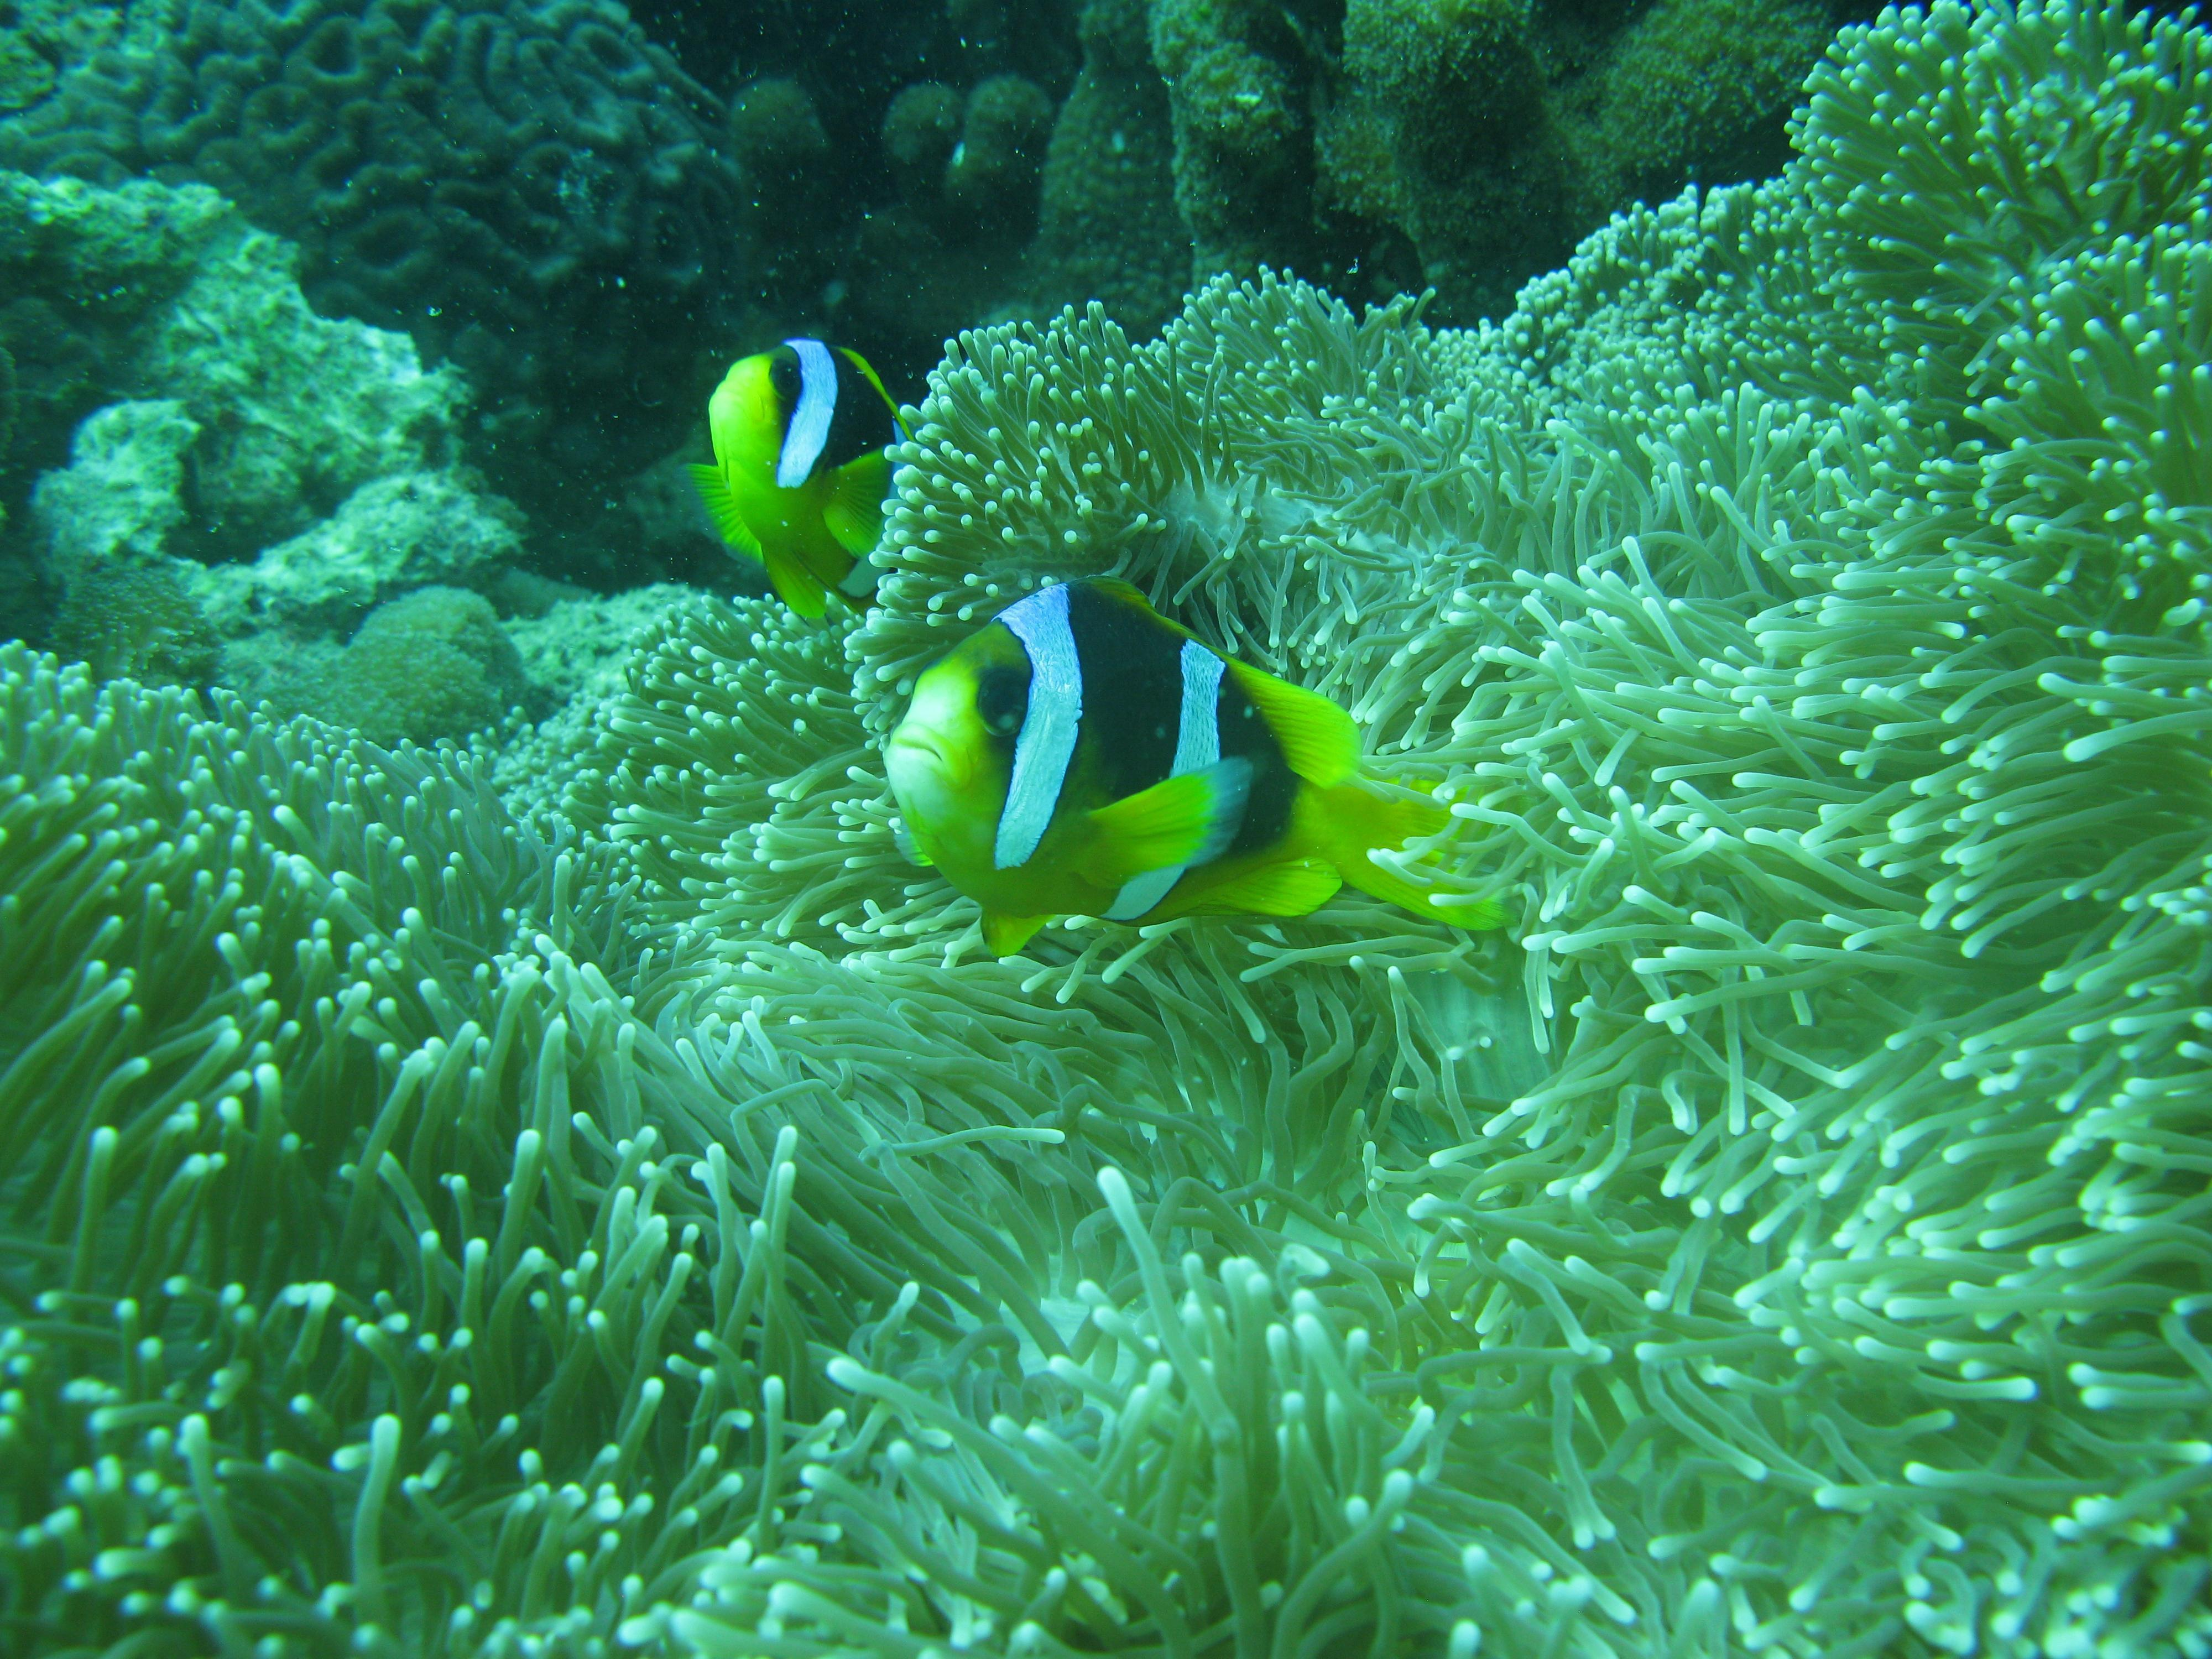Fish: (860, 561, 1519, 976), (658, 314, 911, 622)
